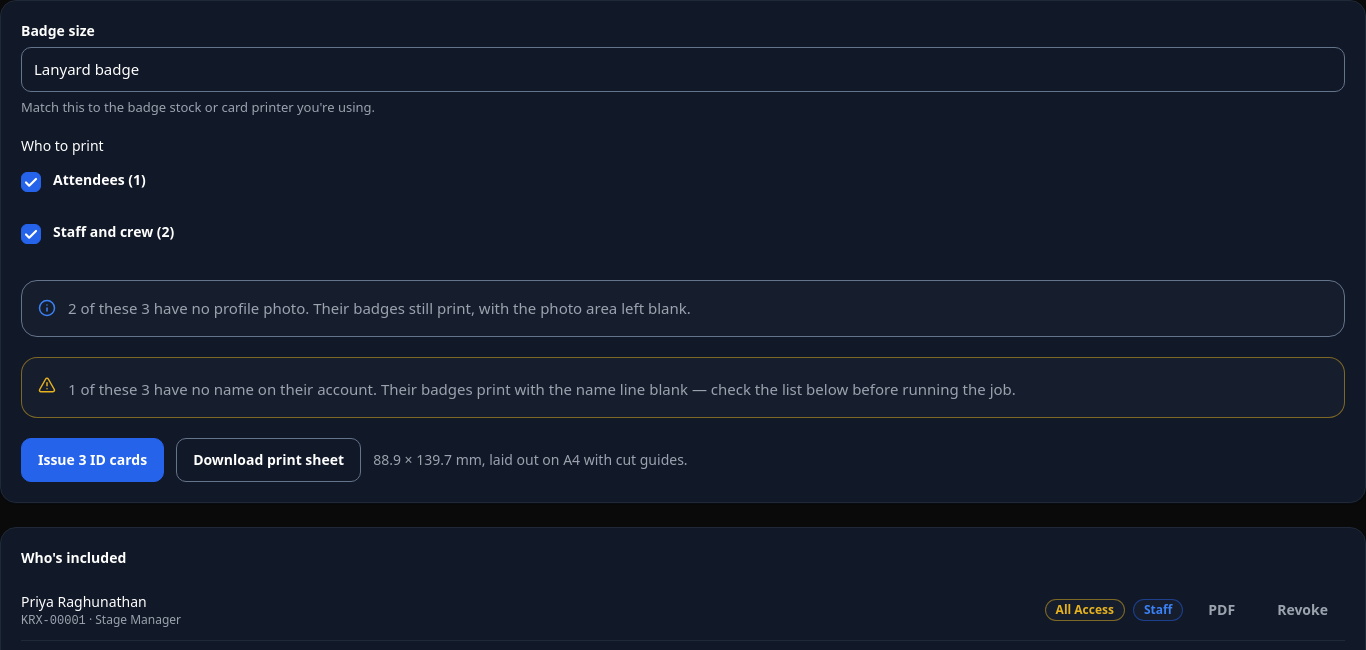
the print run › revokes an issued card and says what that does not do
Click the button with aria-label "Revoke Priya Raghunathan badge".
click(1303, 610)  # box [1260,588,1345,632]
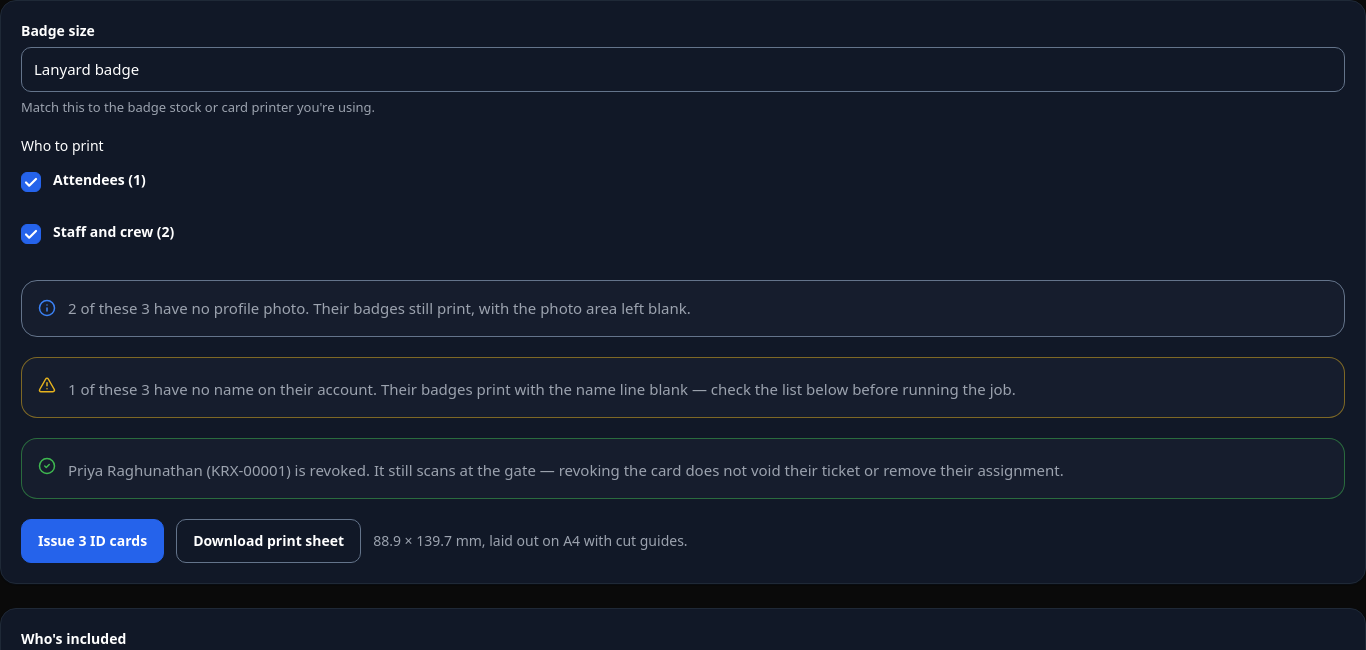
Now the text "does not void their ticket or remove their assignment" is shown, box [68,460,1064,480]
